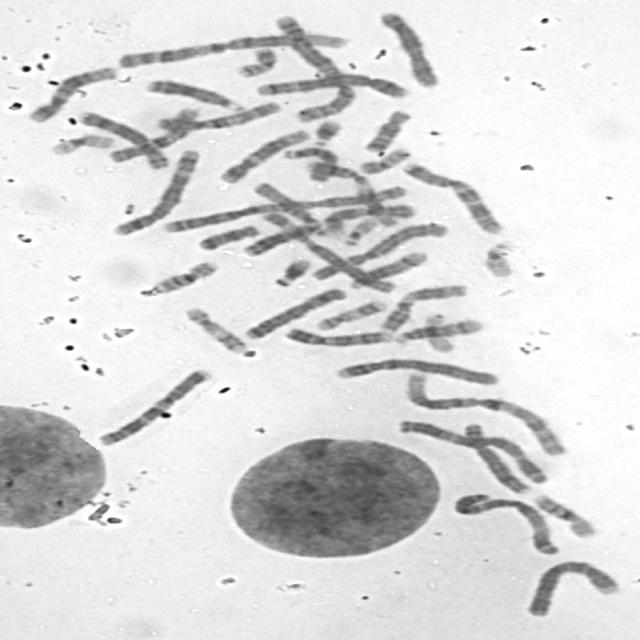A1: (400, 367, 568, 457), (110, 28, 353, 70)
A2: (161, 182, 417, 235), (268, 10, 359, 123)
A3: (391, 416, 549, 486), (446, 489, 562, 556)
B4: (519, 556, 623, 618), (330, 354, 502, 387)
B5: (106, 144, 204, 237), (250, 70, 413, 100)
C10: (104, 103, 204, 164), (153, 97, 284, 133)
C11: (302, 157, 404, 228), (372, 279, 472, 333)
C12: (21, 62, 119, 124), (214, 125, 313, 185)
C6: (254, 207, 401, 293), (304, 220, 448, 281)
C7: (89, 364, 215, 446), (396, 157, 506, 235)
C8: (72, 107, 173, 170), (457, 420, 534, 496)
C9: (316, 200, 419, 236), (280, 324, 395, 348)
D13: (140, 75, 246, 112), (240, 218, 330, 257)
D14: (344, 248, 429, 290), (391, 316, 485, 345)
D15: (248, 178, 327, 236), (278, 143, 342, 183)
E16: (529, 491, 600, 539), (138, 257, 220, 297)
E17: (180, 303, 250, 354), (309, 296, 390, 331)
E18: (358, 106, 414, 154), (192, 219, 263, 251)
F19: (44, 130, 118, 157), (418, 310, 459, 352)
F20: (353, 143, 413, 175), (230, 44, 280, 78)
G21: (268, 254, 315, 288), (307, 116, 345, 147)
G22: (477, 238, 518, 279), (340, 213, 382, 246)
X: (237, 282, 350, 342), (374, 8, 444, 89)
